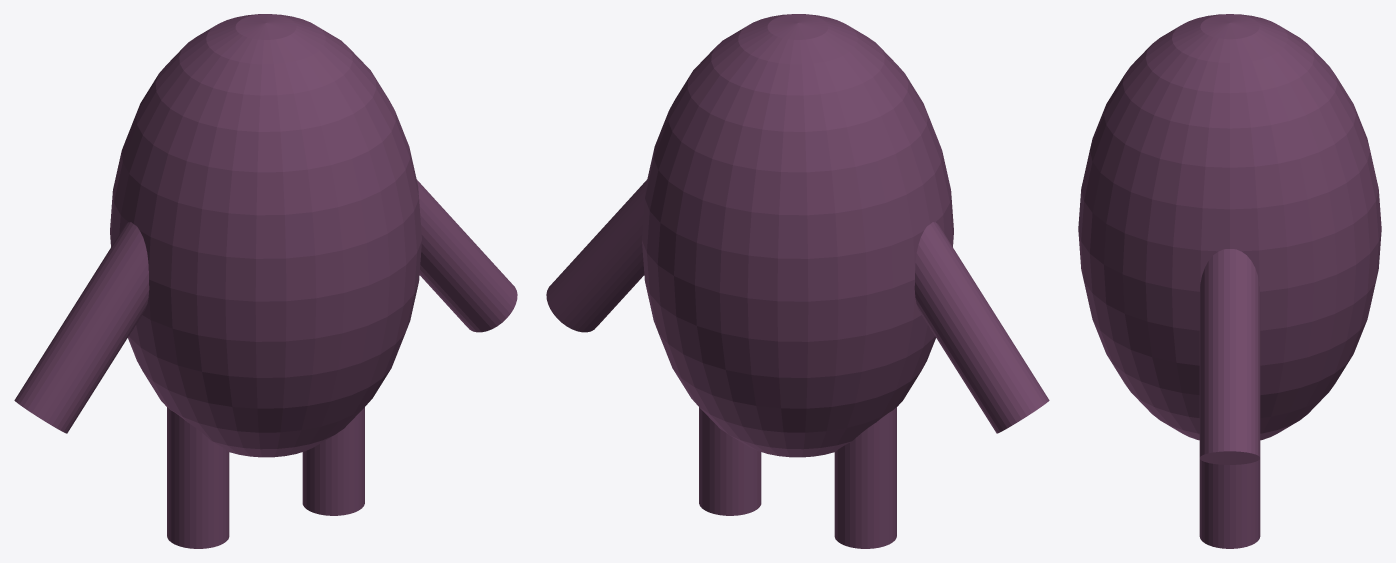
Rendered from tamer_4.glb.
3 renders of one model, left to right at view 1: azimuth 30°, elevation 25°; view 2: azimuth 150°, elevation 25°; view 3: azimuth 270°, elevation 25°, orthographic. The views are drawn at different scales.
Parts seen in each view (by area): view 1: Sphere, Cylinder.003, Cylinder.002, Cylinder.001, Cylinder; view 2: Sphere, Cylinder.003, Cylinder.002, Cylinder.001, Cylinder; view 3: Sphere, Cylinder.002, Cylinder.
Boxes of the visible parts, x1,y1,x2,y2 form: Sphere: (110,14,421,457); Cylinder.003: (14,222,149,433); Cylinder.002: (416,179,517,332); Cylinder.001: (167,407,229,548); Cylinder: (302,407,364,515); Sphere: (642,14,953,457); Cylinder.003: (914,222,1049,433); Cylinder.002: (546,179,647,332); Cylinder.001: (834,407,896,548); Cylinder: (699,407,761,515); Sphere: (1078,14,1381,440); Cylinder.002: (1199,249,1260,464); Cylinder: (1199,459,1260,548).
Bounding box in the file's own units: 1.82 × 1.75 × 1.
